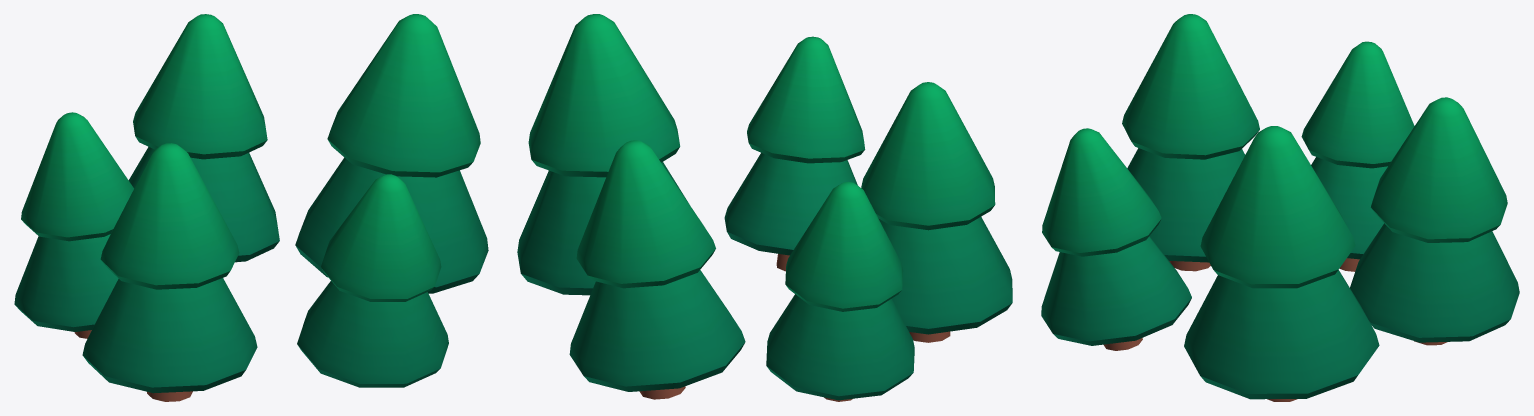
The model's file is kaykit-medieval-hexagon-pack-trees-b-medium.glb.
3 views of the same model, side by side, from view 1: azimuth 30°, elevation 25°; view 2: azimuth 150°, elevation 25°; view 3: azimuth 270°, elevation 25° (orthographic).
Parts seen in each view (by area): view 1: trees_B_medium; view 2: trees_B_medium; view 3: trees_B_medium.
Boxes of the visible parts, x1,y1,x2,y2 form: trees_B_medium: [14, 14, 488, 401]; trees_B_medium: [517, 14, 1012, 401]; trees_B_medium: [1041, 14, 1519, 401].
Size of the model in its own units: 1.86 by 1.17 by 1.83.
1 material, 1 textured.
